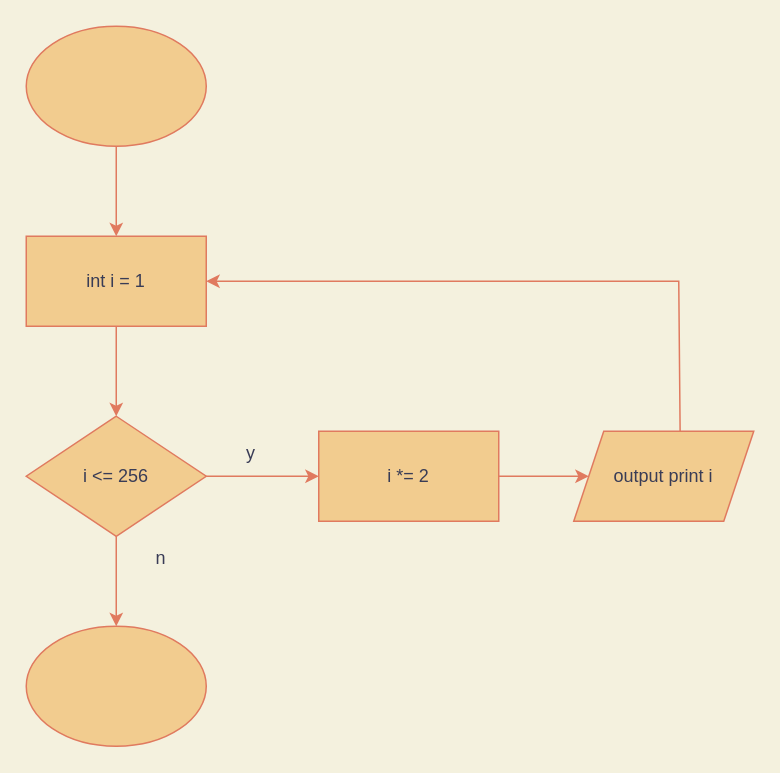
Some shapes in this 780 by 773 pixel diagram are drawn without their labels. Each missing label, with the centre of its shape:
end: the point at 115,685
start: the point at 115,85
